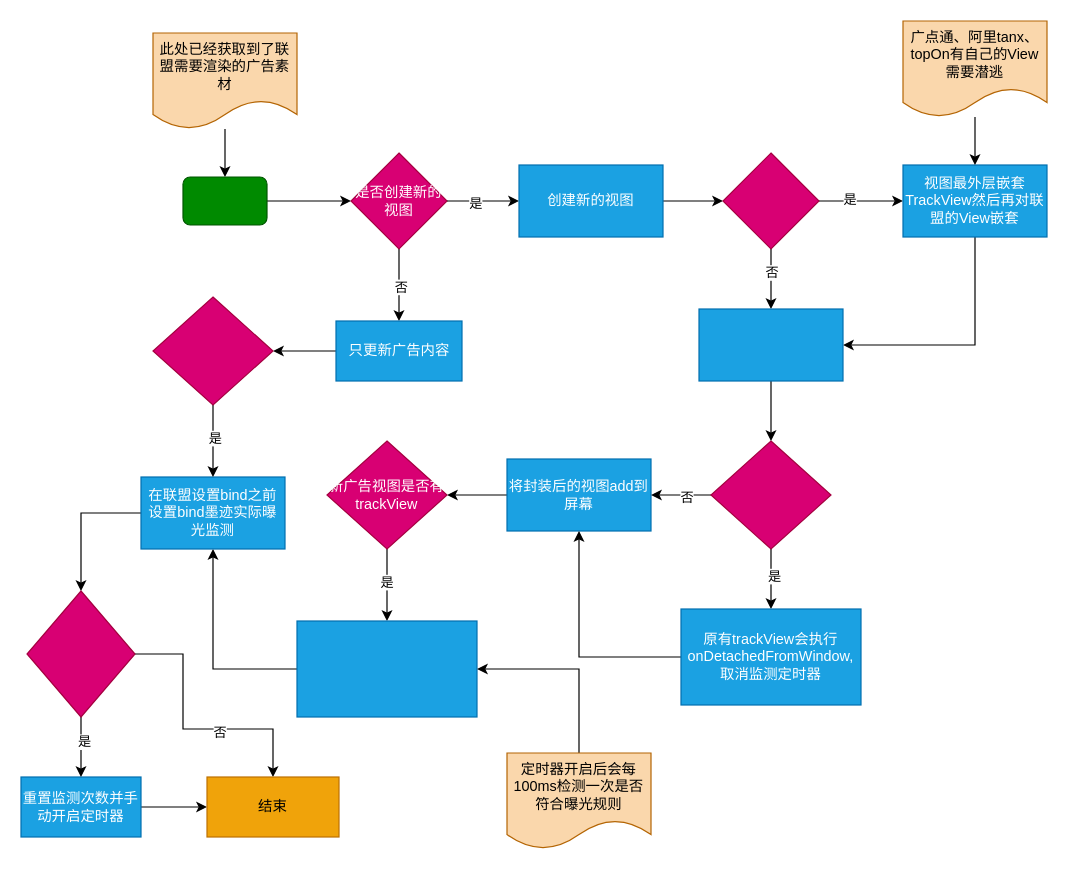
Some shapes in this 1068 by 870 pixel diagram are drawn without their labels. The shapes that lost their labels are listed below. From the top down, each one's centre as x and y in pixels, then its label:
At point (224, 200): "开始".
At point (770, 200): "是否开启了监测功能".
At point (212, 350): "广告视图是否为trackView".
At point (770, 344): "将原有广告View remove".
At point (770, 494): "原有广告视图是否有trackView".
At point (80, 653): "是否为更新擦操作且定时器已经取消".
At point (386, 668): "新trackView会执行onAttachedToWindow,开启 监测定时器".
